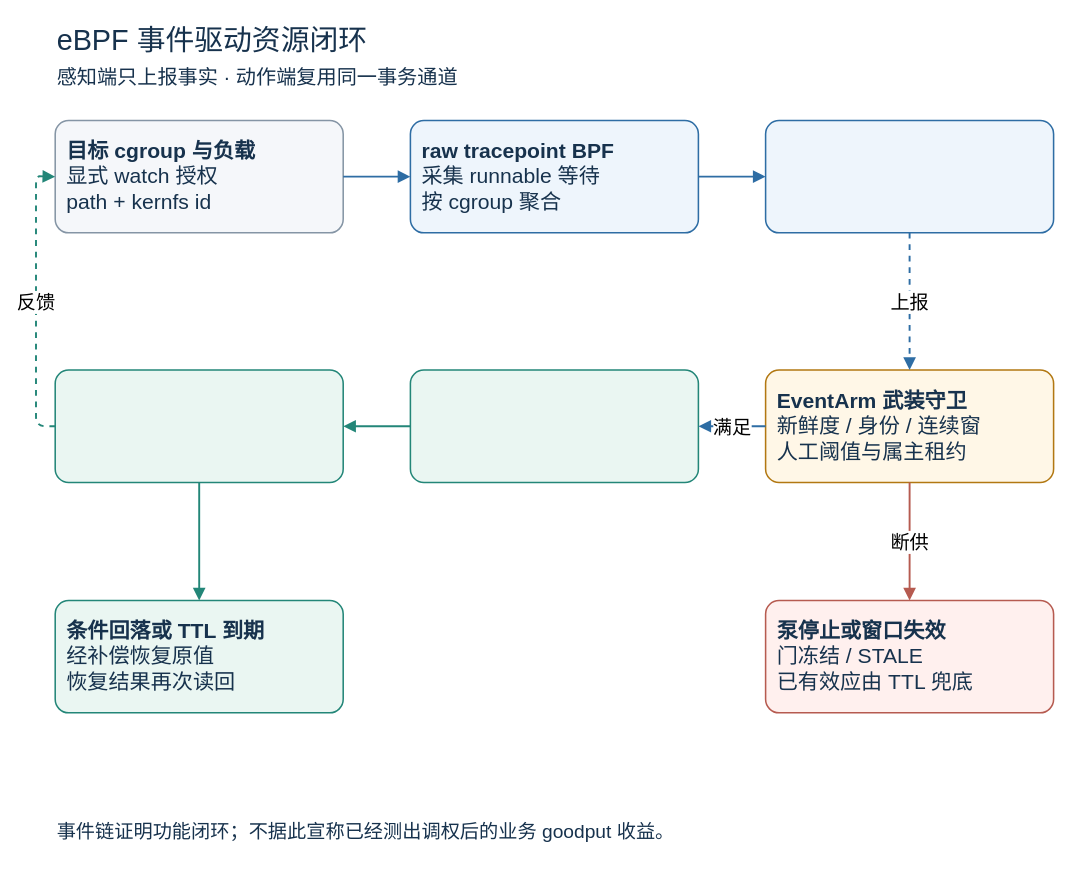
This 1070x873 diagram has some shape labels left out. The shapes that lost their labels are listed below. From the top down, each one's centre as x and y in pixels, then its label:
At point (909, 176): "ep-evtmon 读聚合 map / 排空窗口 按周期上报观测".
At point (198, 426): "cpu.weight 生效 读回验证 / 刷新纠漂 原值 marker 可恢复".
At point (554, 426): "统一事务与唯一写者 lease / WAL / verify apply / rollback".
